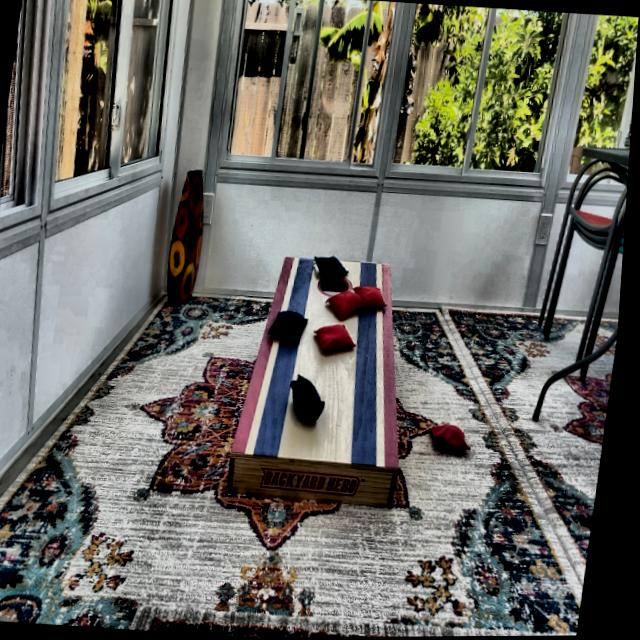blue-bean-bag: (291, 374, 333, 423), (272, 310, 313, 344), (316, 255, 353, 277)
board: (256, 255, 403, 465)
hole: (321, 273, 353, 297)
red-bean-bag: (313, 321, 363, 354), (435, 422, 479, 455), (327, 288, 366, 322), (355, 284, 391, 308)
